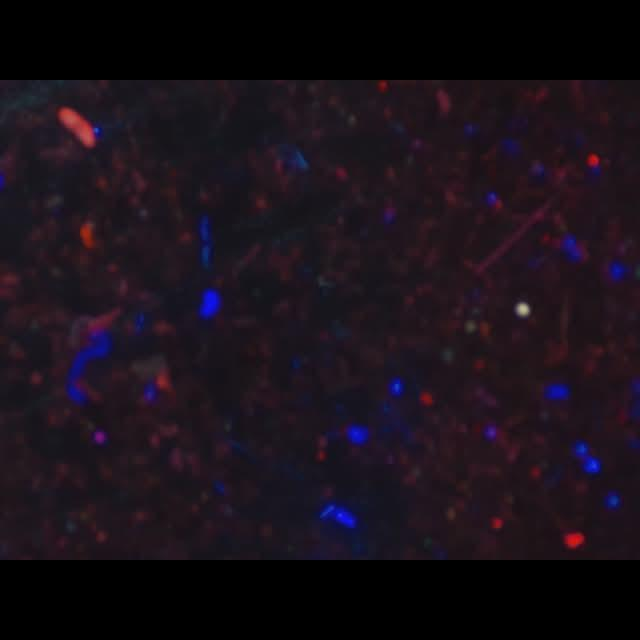microbeads: (512, 299, 534, 319)
